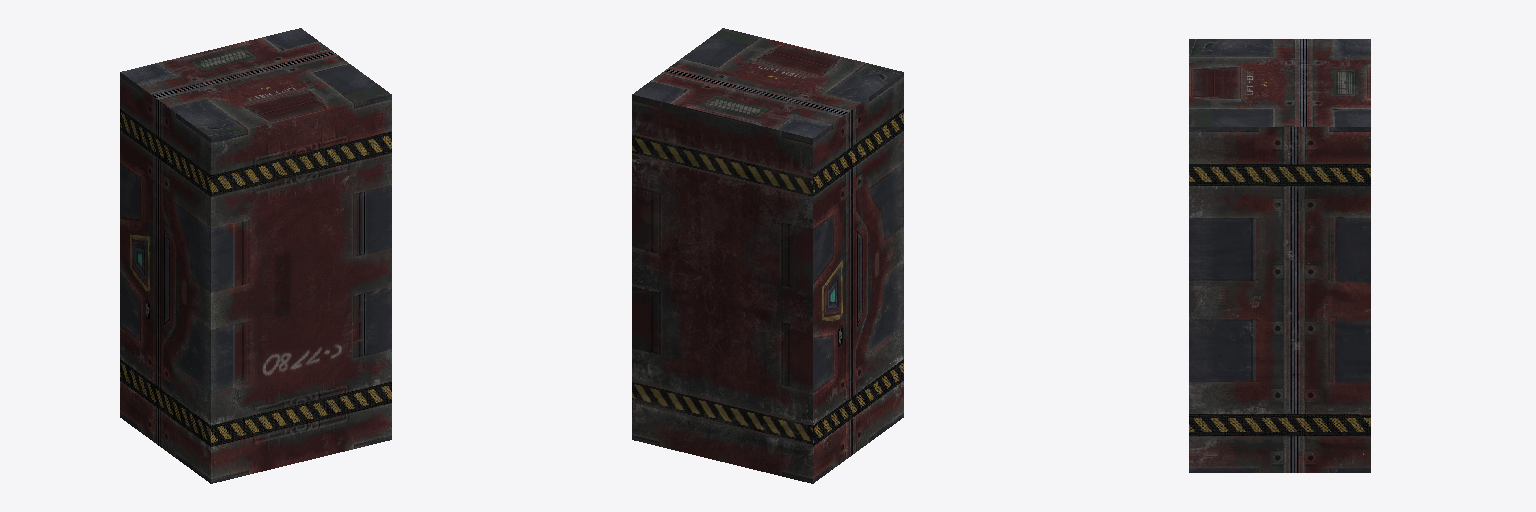
3 views of the same model, side by side, from view 1: azimuth 30°, elevation 25°; view 2: azimuth 150°, elevation 25°; view 3: azimuth 270°, elevation 25° (orthographic).
Visible parts, largest first — view 1: mtl_t6_wpn_supply_drop_axis; view 2: mtl_t6_wpn_supply_drop_axis; view 3: mtl_t6_wpn_supply_drop_axis.
Part boxes in pixels (x1,y1,x2,y2): mtl_t6_wpn_supply_drop_axis: (120,28,391,483); mtl_t6_wpn_supply_drop_axis: (632,28,903,483); mtl_t6_wpn_supply_drop_axis: (1189,39,1370,472).
Bounding box in the file's own units: 95.79 × 175 × 83.47.
1 materials, 1 textured.